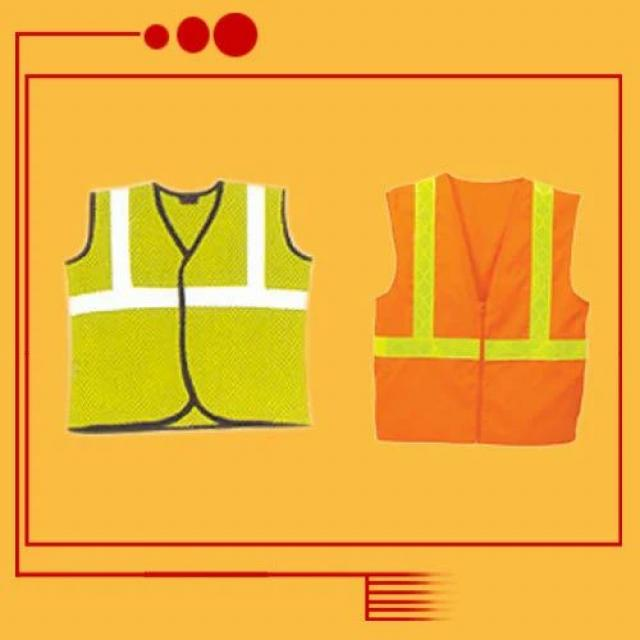Reflective-Jacket: (41, 179, 347, 435), (353, 168, 607, 453)
